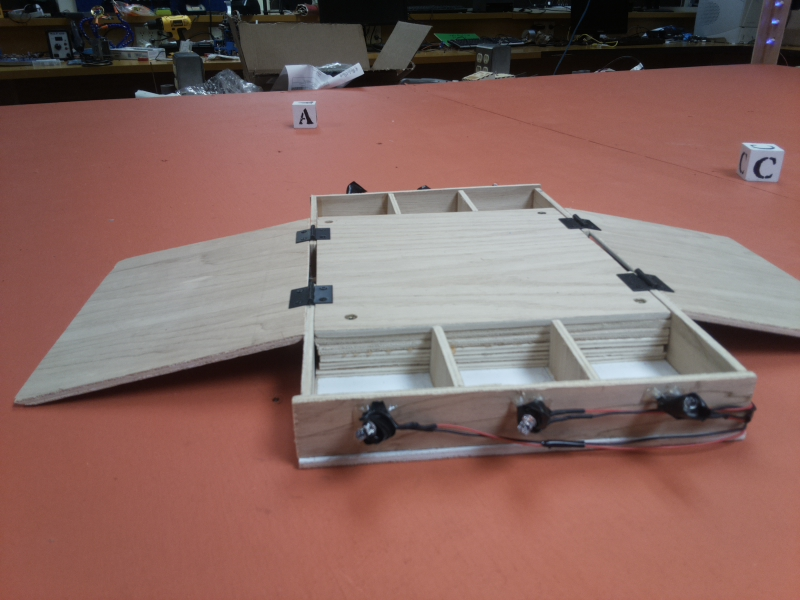blockA: (289, 99, 318, 133)
blockC: (735, 140, 785, 185)
corner: (747, 1, 790, 68)
side: (288, 316, 761, 475)
slope: (10, 195, 310, 417), (570, 209, 800, 335)
